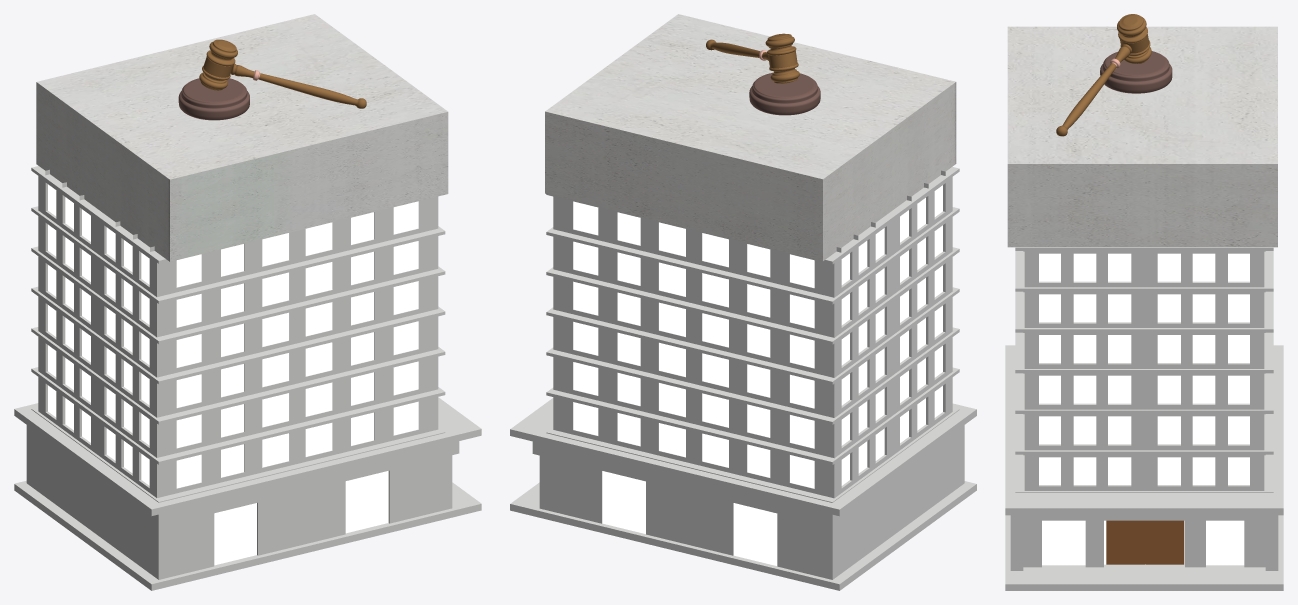
The model's file is BiddingPlace.glb.
The picture shows the model from 3 angles, left to right: view 1: azimuth 30°, elevation 25°; view 2: azimuth 150°, elevation 25°; view 3: azimuth 270°, elevation 25°; orthographic projection.
Visible parts, largest first — view 1: Cube.003; view 2: Cube.003; view 3: Cube.003.
Part boxes in pixels (x1,y1,x2,y2): Cube.003: (14, 14, 481, 590); Cube.003: (510, 14, 976, 590); Cube.003: (1005, 14, 1283, 590).
Bounding box in the file's own units: 2.3 × 3.13 × 1.66.
6 materials, 2 textured.
